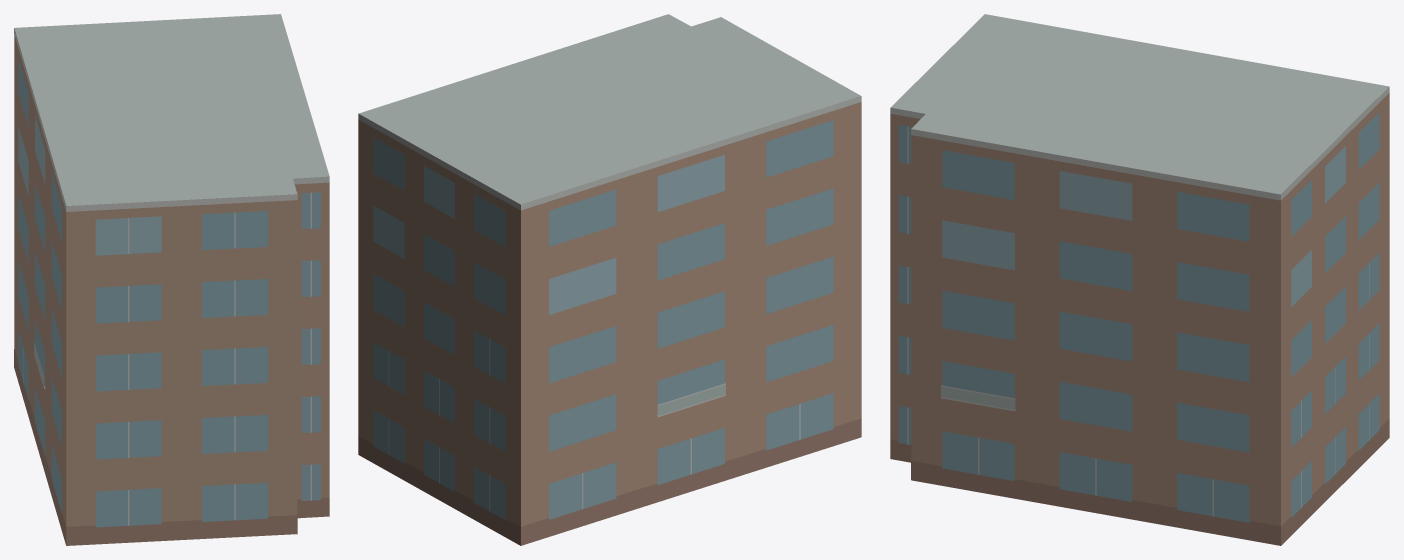
The model's file is survey-upis-32527628.glb.
The picture shows the model from 3 angles, left to right: view 1: azimuth 30°, elevation 25°; view 2: azimuth 150°, elevation 25°; view 3: azimuth 270°, elevation 25°; orthographic projection. The views are drawn at different scales.
Visible parts, largest first — view 1: survey-upis-32527628.tmp; view 2: survey-upis-32527628.tmp; view 3: survey-upis-32527628.tmp.
Boxes of the visible parts, x1,y1,x2,y2 form: survey-upis-32527628.tmp: [14, 14, 329, 545]; survey-upis-32527628.tmp: [358, 14, 861, 545]; survey-upis-32527628.tmp: [890, 14, 1389, 545].
Bounding box in the file's own units: 15.64 × 14.18 × 18.27.
